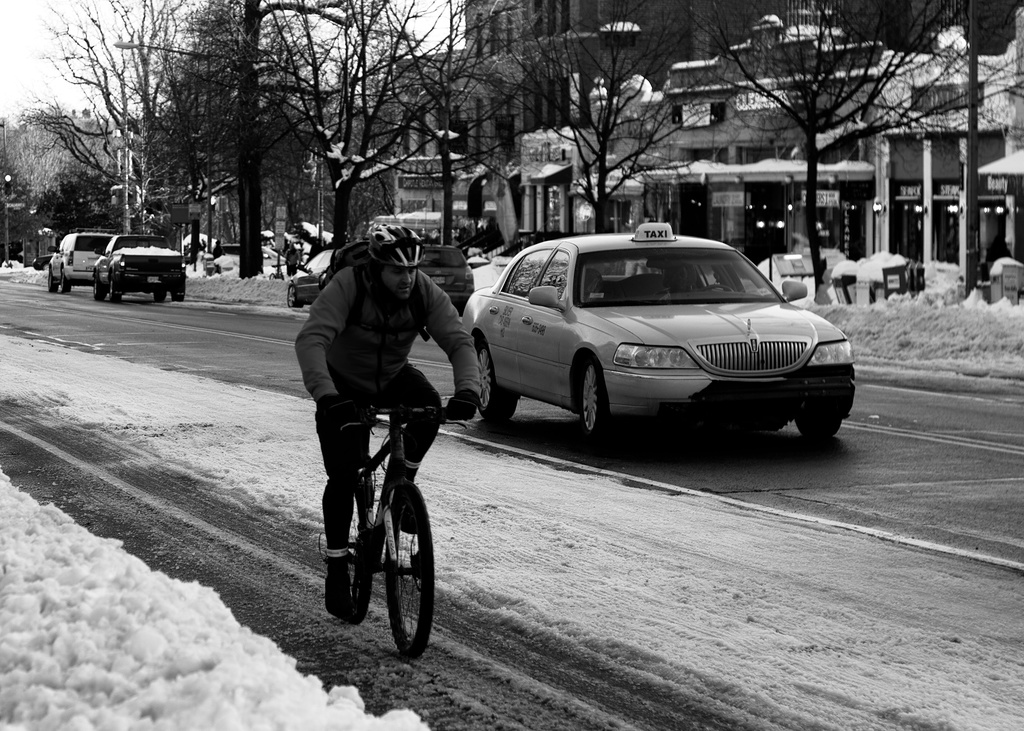Bike: (306, 388, 478, 660)
